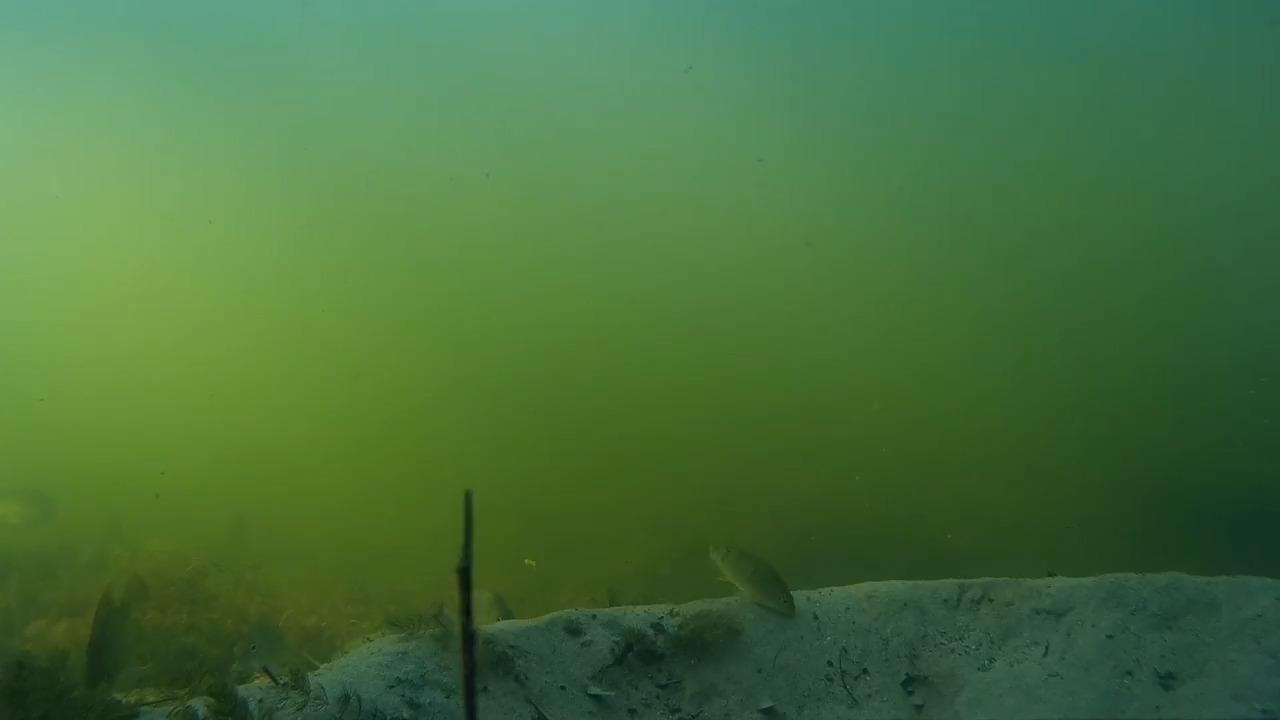Tilapia: (219, 592, 303, 682), (169, 710, 169, 716)
